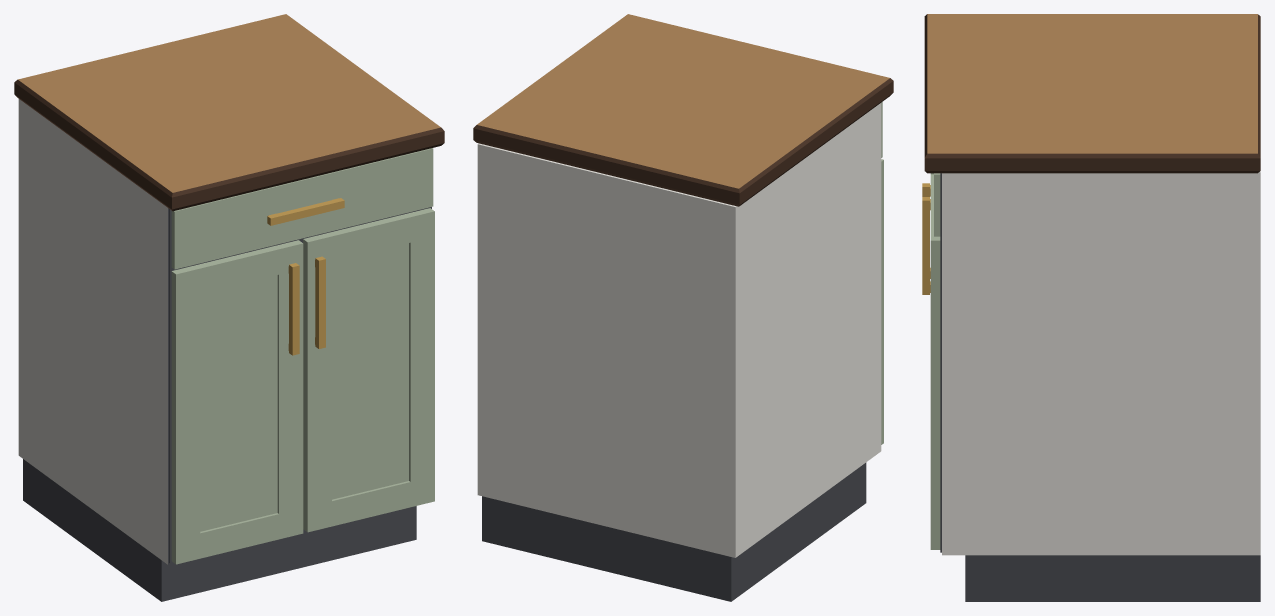
Rendered from FN_Cabinet_Kitchen_Base.glb.
3 views of the same model, side by side, from view 1: azimuth 30°, elevation 25°; view 2: azimuth 150°, elevation 25°; view 3: azimuth 270°, elevation 25° (orthographic). The views are drawn at different scales.
Visible parts, largest first — view 1: FN_Cabinet_Kitchen_Base; view 2: FN_Cabinet_Kitchen_Base; view 3: FN_Cabinet_Kitchen_Base.
Boxes of the visible parts, bbox=[...] form: FN_Cabinet_Kitchen_Base: bbox=[14, 14, 444, 601]; FN_Cabinet_Kitchen_Base: bbox=[473, 14, 893, 601]; FN_Cabinet_Kitchen_Base: bbox=[922, 14, 1260, 601].
Bounding box in the file's own units: 0.62 × 0.92 × 0.624.
1 material, 1 textured.
